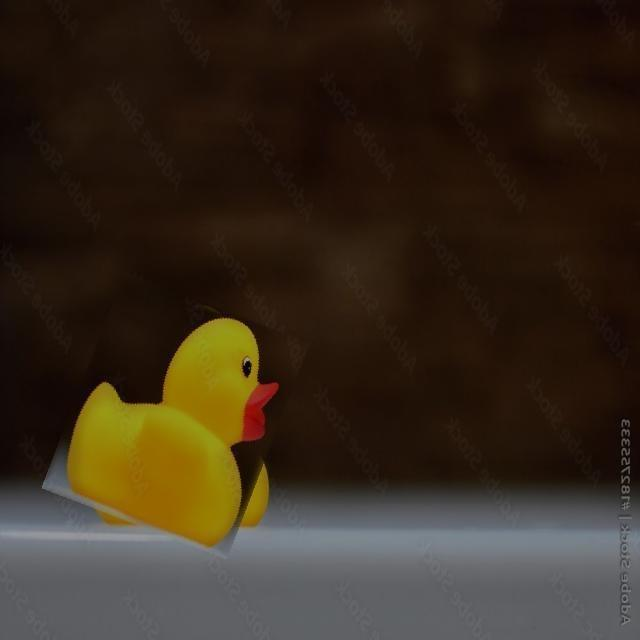rubber-duck: (66, 317, 276, 544)
